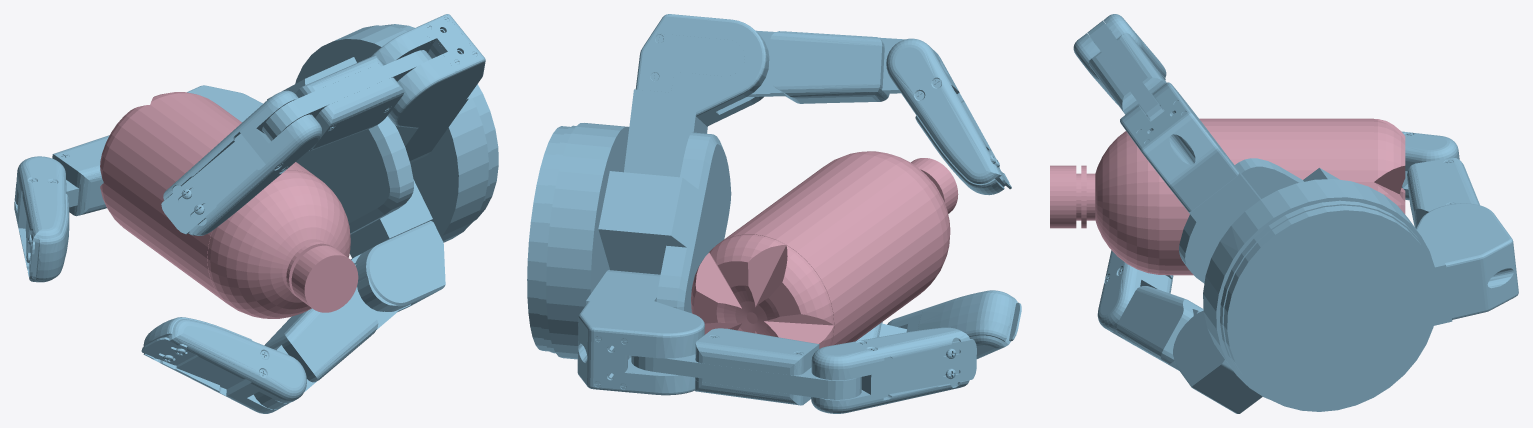
3 views of the same model, side by side, from view 1: azimuth 30°, elevation 25°; view 2: azimuth 150°, elevation 25°; view 3: azimuth 270°, elevation 25° (orthographic). The views are drawn at different scales.
Visible parts, largest first — view 1: world, water_bottle.stl; view 2: world, water_bottle.stl; view 3: world, water_bottle.stl.
Boxes of the visible parts, x1,y1,x2,y2 form: world: (14,14,498,413); water_bottle.stl: (100,92,358,318); world: (527,14,1021,413); water_bottle.stl: (691,151,958,348); world: (1073,14,1518,413); water_bottle.stl: (1050,118,1405,275).
Size of the model in its own units: 0.1917 by 0.1413 by 0.1802.
